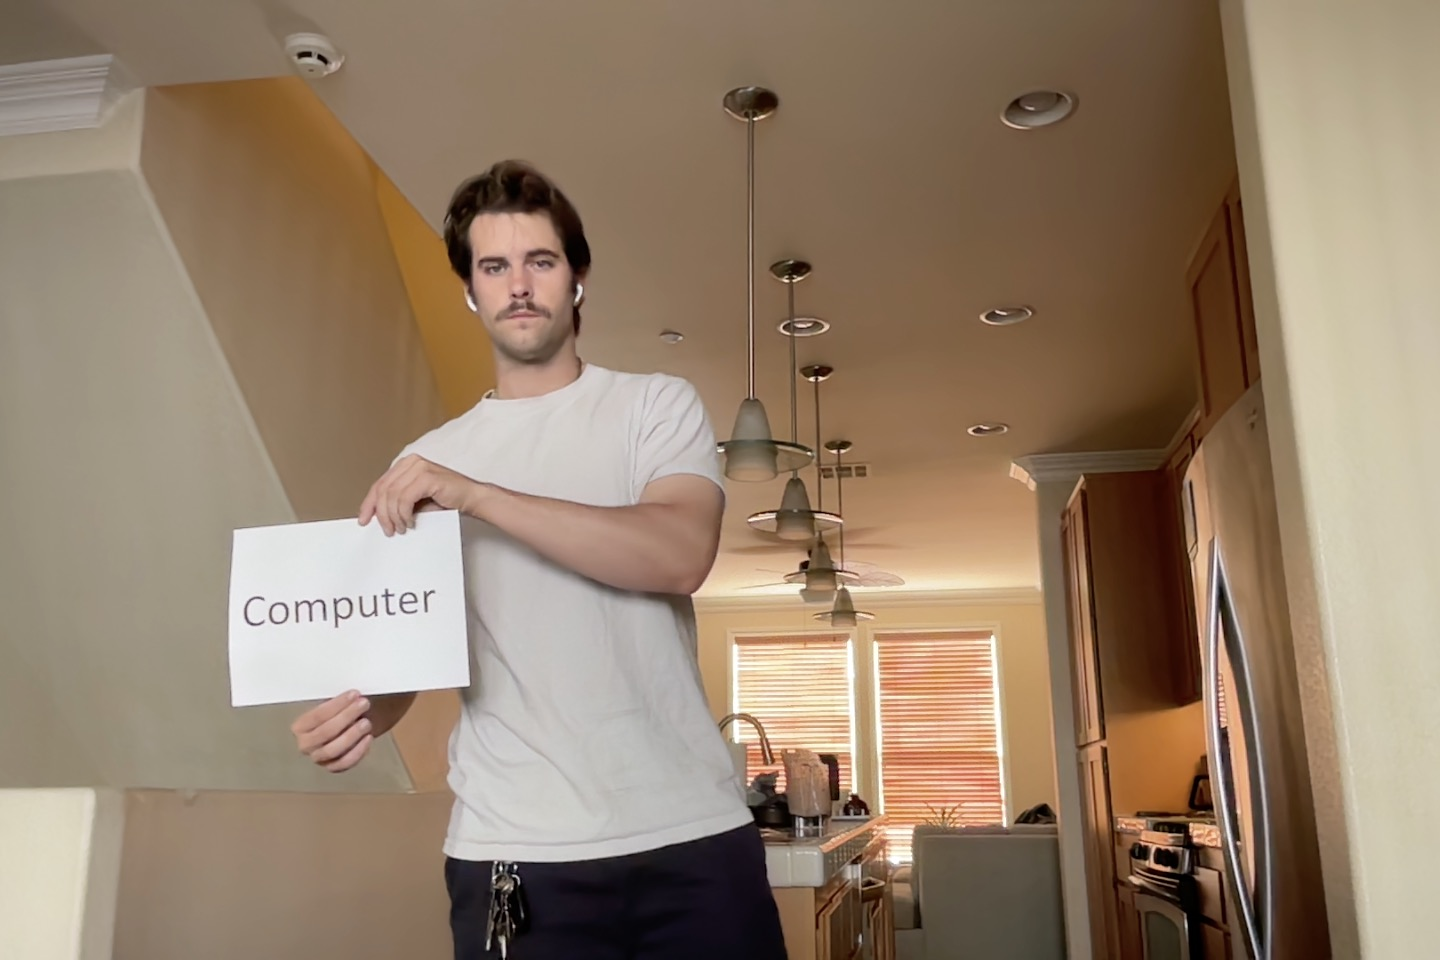word: (242, 584, 434, 631)
